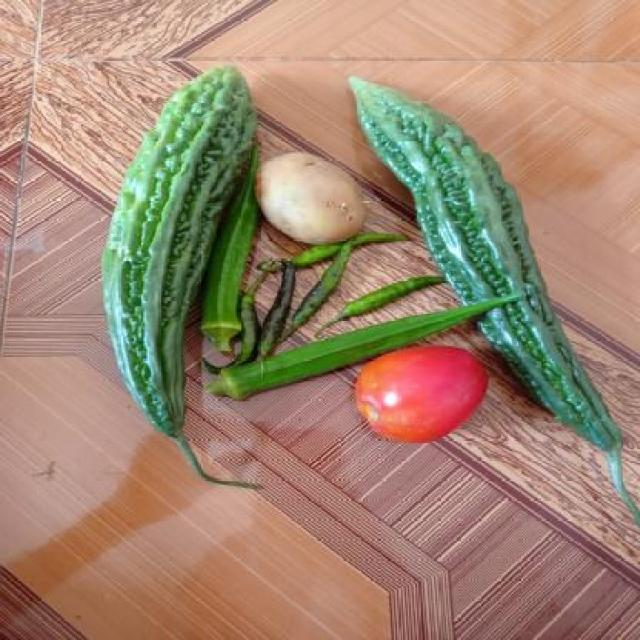Bitter melon: (88, 99, 248, 466), (356, 74, 556, 296)
Green Chili: (322, 275, 440, 328)
Lady finger: (197, 214, 243, 340)
Potato: (263, 157, 369, 245)
Tomato: (350, 346, 488, 446)
